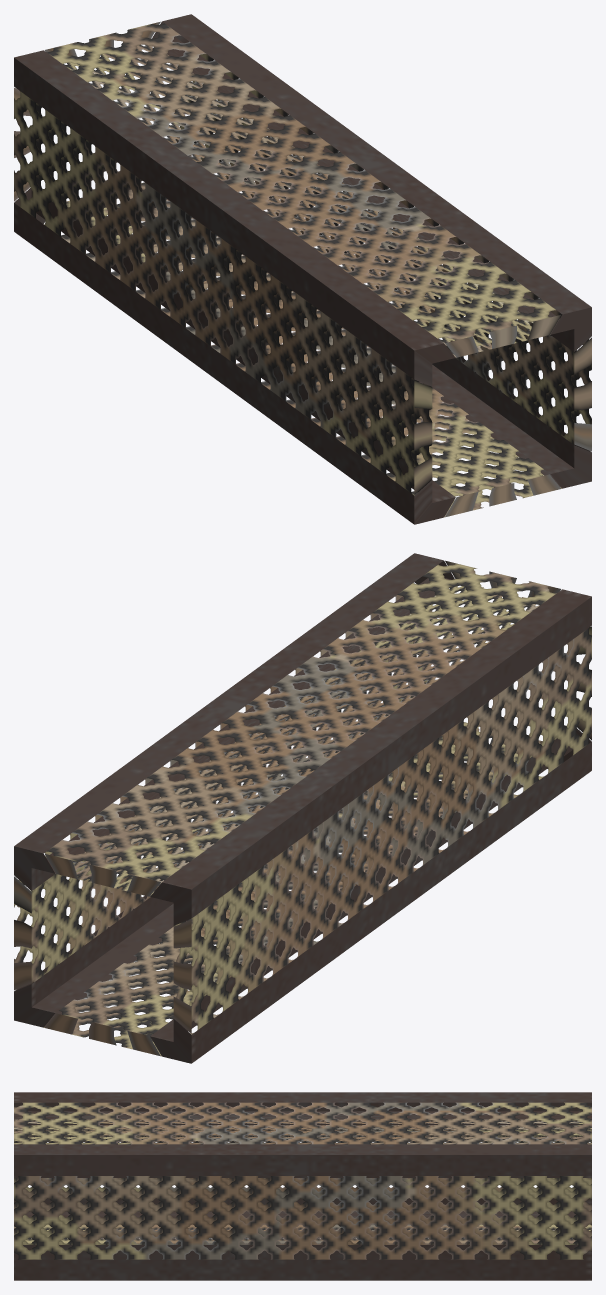
Rendered from beam.fbx.
The picture shows the model from 3 angles, top to bottom: view 1: azimuth 30°, elevation 25°; view 2: azimuth 150°, elevation 25°; view 3: azimuth 270°, elevation 25°; orthographic projection. The views are drawn at different scales.
Parts seen in each view (by area): view 1: Cube, Cube.001; view 2: Cube, Cube.001; view 3: Cube, Cube.001.
Boxes of the visible parts, x1=… form: Cube: x1=14, y1=21, x2=591, y2=517; Cube.001: x1=14, y1=14, x2=591, y2=524; Cube: x1=14, y1=560, x2=591, y2=1056; Cube.001: x1=14, y1=553, x2=591, y2=1063; Cube: x1=14, y1=1102, x2=591, y2=1259; Cube.001: x1=14, y1=1092, x2=591, y2=1280.
Bounding box in the file's own units: 51.2 × 48 × 200.
